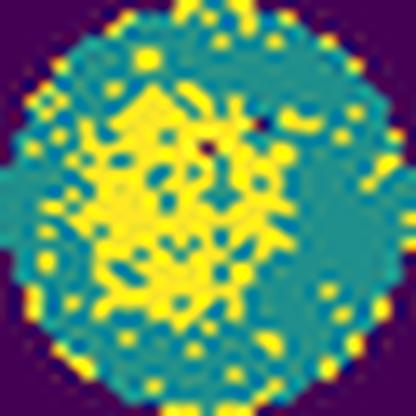Center: (71, 73, 301, 335)
